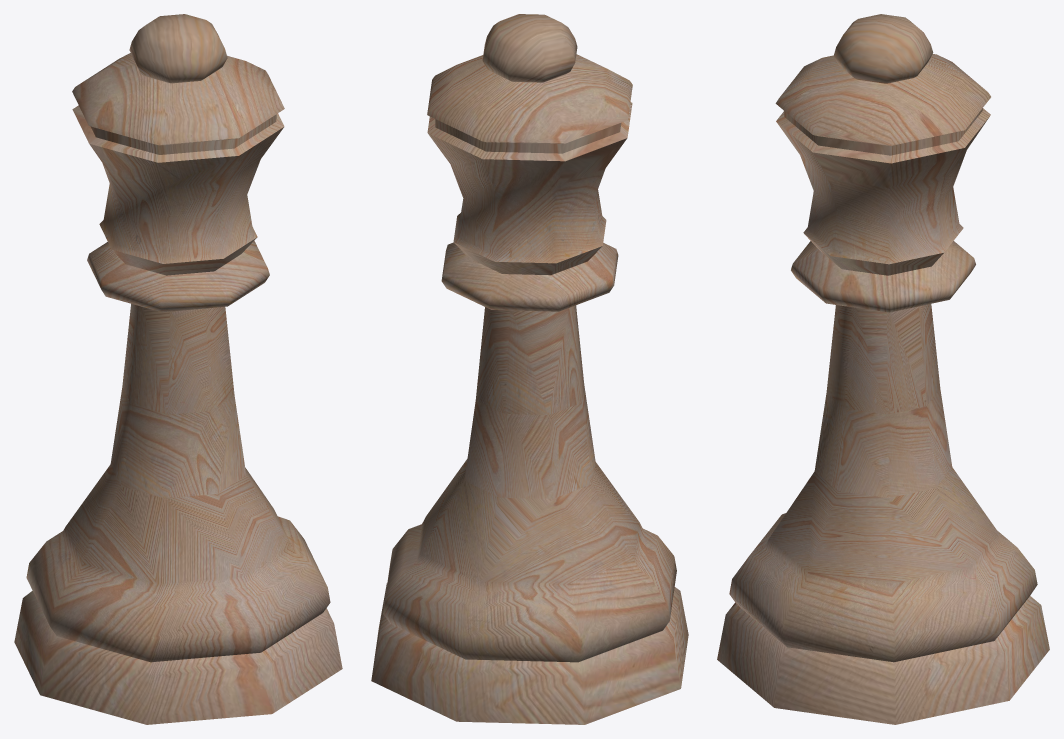
Rendered from Queen_white.glb.
The picture shows the model from 3 angles, left to right: view 1: azimuth 30°, elevation 25°; view 2: azimuth 150°, elevation 25°; view 3: azimuth 270°, elevation 25°; orthographic projection.
Visible parts, largest first — view 1: Object_14; view 2: Object_14; view 3: Object_14.
Boxes of the visible parts, bbox=[...] form: Object_14: bbox=[14, 14, 342, 724]; Object_14: bbox=[371, 14, 688, 724]; Object_14: bbox=[717, 14, 1049, 724].
Size of the model in its own units: 0.0296 by 0.0621 by 0.0296.
Materials: 1 (1 with a texture image).
